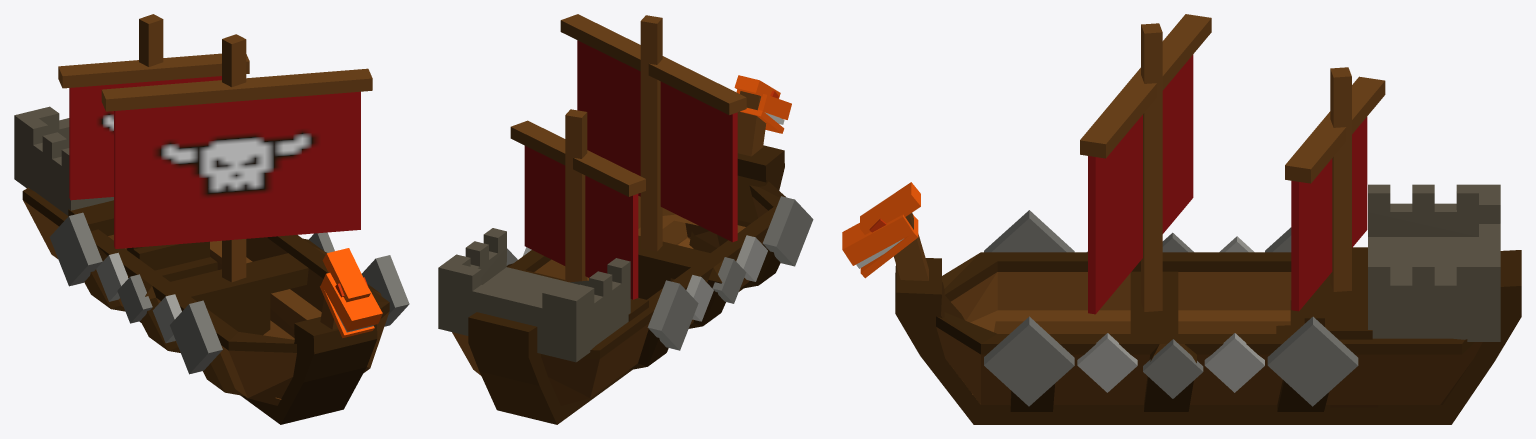
File: vikingogreship.fbx
3 views of the same model, side by side, from view 1: azimuth 30°, elevation 25°; view 2: azimuth 150°, elevation 25°; view 3: azimuth 270°, elevation 25° (orthographic). The views are drawn at different scales.
Parts seen in each view (by area): view 1: polySurface31; view 2: polySurface31; view 3: polySurface31.
Boxes of the visible parts, x1,y1,x2,y2 form: polySurface31: (14,14,409,424); polySurface31: (438,14,813,424); polySurface31: (842,14,1521,424).
Size of the model in its own units: 141 by 190 by 310.
1 material, 1 textured.
